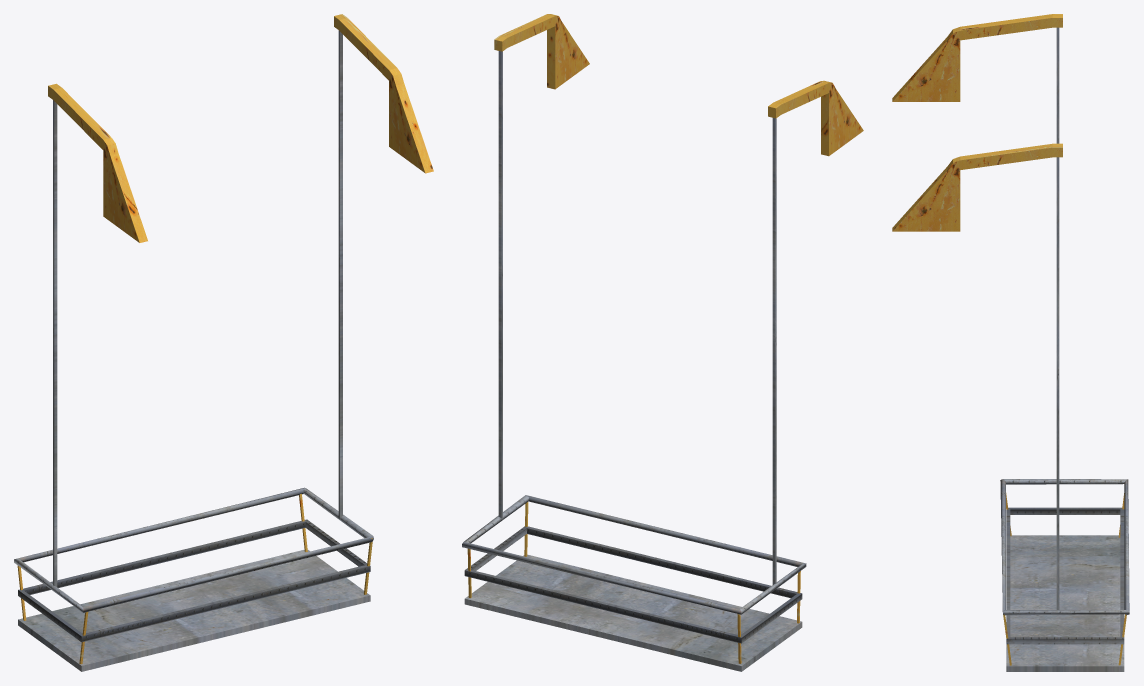
The model's file is plataform.fbx.
The picture shows the model from 3 angles, left to right: view 1: azimuth 30°, elevation 25°; view 2: azimuth 150°, elevation 25°; view 3: azimuth 270°, elevation 25°; orthographic projection. The views are drawn at different scales.
Parts seen in each view (by area): view 1: plataform2; view 2: plataform2; view 3: plataform2.
Part boxes in pixels (box(x1,y1,x2,y2)): plataform2: box(14, 14, 433, 671); plataform2: box(462, 14, 863, 671); plataform2: box(892, 14, 1129, 671).
Size of the model in its own units: 3.91 by 7.18 by 2.94.
